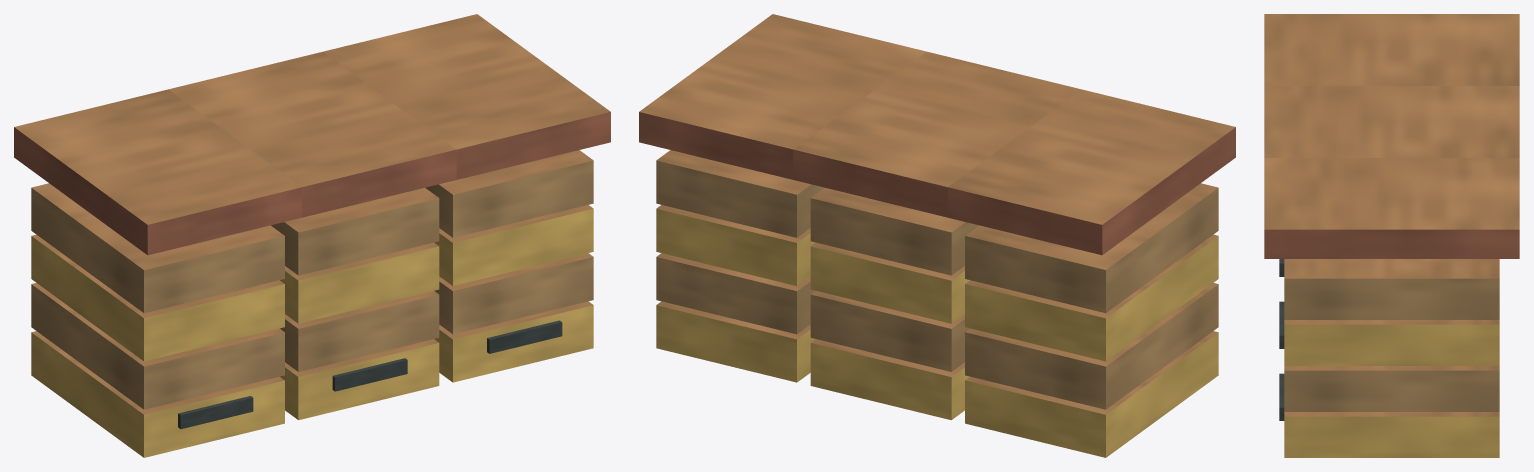
The model's file is beehives_3.fbx.
The picture shows the model from 3 angles, left to right: view 1: azimuth 30°, elevation 25°; view 2: azimuth 150°, elevation 25°; view 3: azimuth 270°, elevation 25°; orthographic projection. The views are drawn at different scales.
Visible parts, largest first — view 1: beehives_3; view 2: beehives_3; view 3: beehives_3.
Part boxes in pixels (<box>): beehives_3: <box>14,14,610,457</box>; beehives_3: <box>639,14,1235,457</box>; beehives_3: <box>1264,14,1519,457</box>.
Size of the model in its own units: 200 by 100 by 100.
Materials: 1 (1 with a texture image).
